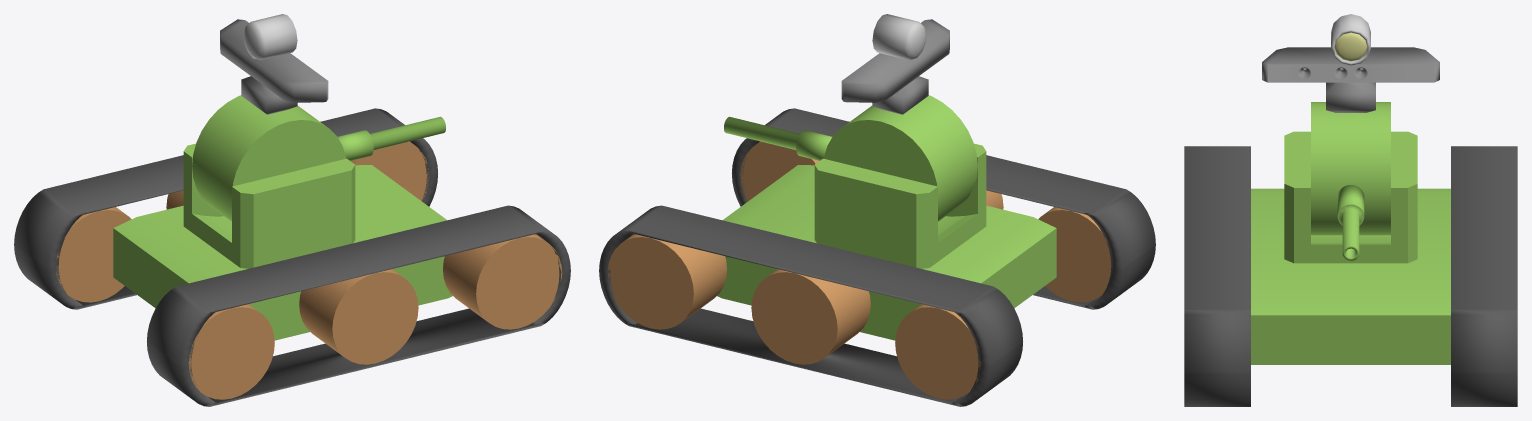
Rendered from tank3.dae.
The picture shows the model from 3 angles, left to right: view 1: azimuth 30°, elevation 25°; view 2: azimuth 150°, elevation 25°; view 3: azimuth 270°, elevation 25°; orthographic projection.
Parts seen in each view (by area): view 1: CRAWLER_R, CHASSIS, TURRET_Y, CRAWLER_L, TURRET_P, WHEEL_R1, WHEEL_R0, WHEEL_R2, CAMERA, WHEEL_L2, WHEEL_L0, BURREL (+1 smaller); view 2: CRAWLER_L, CHASSIS, TURRET_Y, CRAWLER_R, TURRET_P, WHEEL_L1, WHEEL_L0, WHEEL_L2, CAMERA, WHEEL_R2, WHEEL_R0, BURREL (+1 smaller); view 3: CHASSIS, CRAWLER_L, CRAWLER_R, TURRET_P, TURRET_Y, CAMERA, BURREL, LIGHT_FRAME, LIGHT_MAIN.
Part boxes in pixels (box(x1,y1,x2,y2)): CRAWLER_R: box(147, 205, 570, 406); CHASSIS: box(113, 165, 452, 340); TURRET_Y: box(183, 143, 355, 268); CRAWLER_L: box(14, 108, 437, 309); TURRET_P: box(192, 95, 345, 221); WHEEL_R1: box(299, 269, 418, 364); WHEEL_R0: box(443, 234, 562, 329); WHEEL_R2: box(188, 304, 274, 399); CAMERA: box(220, 19, 328, 114); WHEEL_L2: box(56, 207, 131, 302); WHEEL_L0: box(350, 141, 429, 200); BURREL: box(337, 116, 445, 160); CRAWLER_L: box(599, 205, 1022, 406); CHASSIS: box(717, 165, 1056, 340); TURRET_Y: box(814, 143, 986, 268); CRAWLER_R: box(732, 108, 1155, 309); TURRET_P: box(824, 95, 977, 221); WHEEL_L1: box(751, 269, 870, 364); WHEEL_L0: box(608, 234, 726, 329); WHEEL_L2: box(895, 304, 981, 399); CAMERA: box(841, 19, 949, 114); WHEEL_R2: box(1038, 207, 1111, 302); WHEEL_R0: box(740, 141, 819, 201); BURREL: box(724, 116, 832, 160); CHASSIS: box(1251, 188, 1450, 364); CRAWLER_L: box(1451, 146, 1517, 406); CRAWLER_R: box(1184, 146, 1250, 406); TURRET_P: box(1311, 102, 1390, 235); TURRET_Y: box(1284, 131, 1417, 263); CAMERA: box(1262, 47, 1439, 112); BURREL: box(1337, 185, 1364, 260); LIGHT_FRAME: box(1331, 14, 1370, 65); LIGHT_MAIN: box(1334, 32, 1367, 61).
Bounding box in the file's own units: 0.68 × 0.5 × 0.485.
